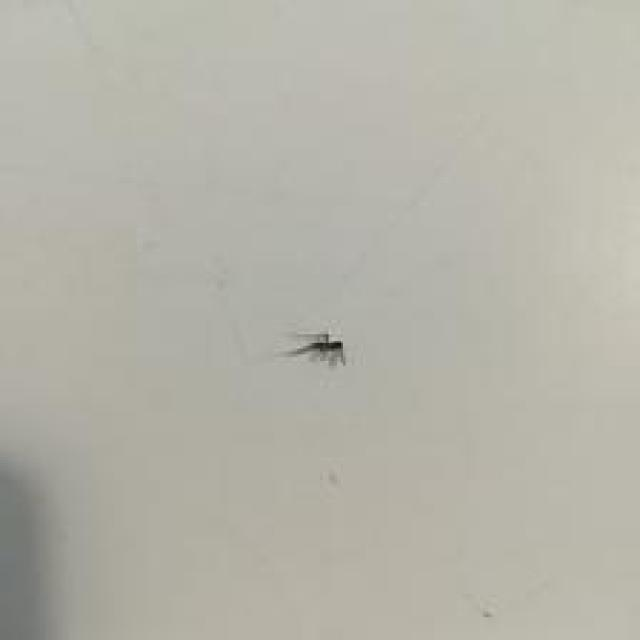Aedes albopictus: (286, 328, 346, 366)
